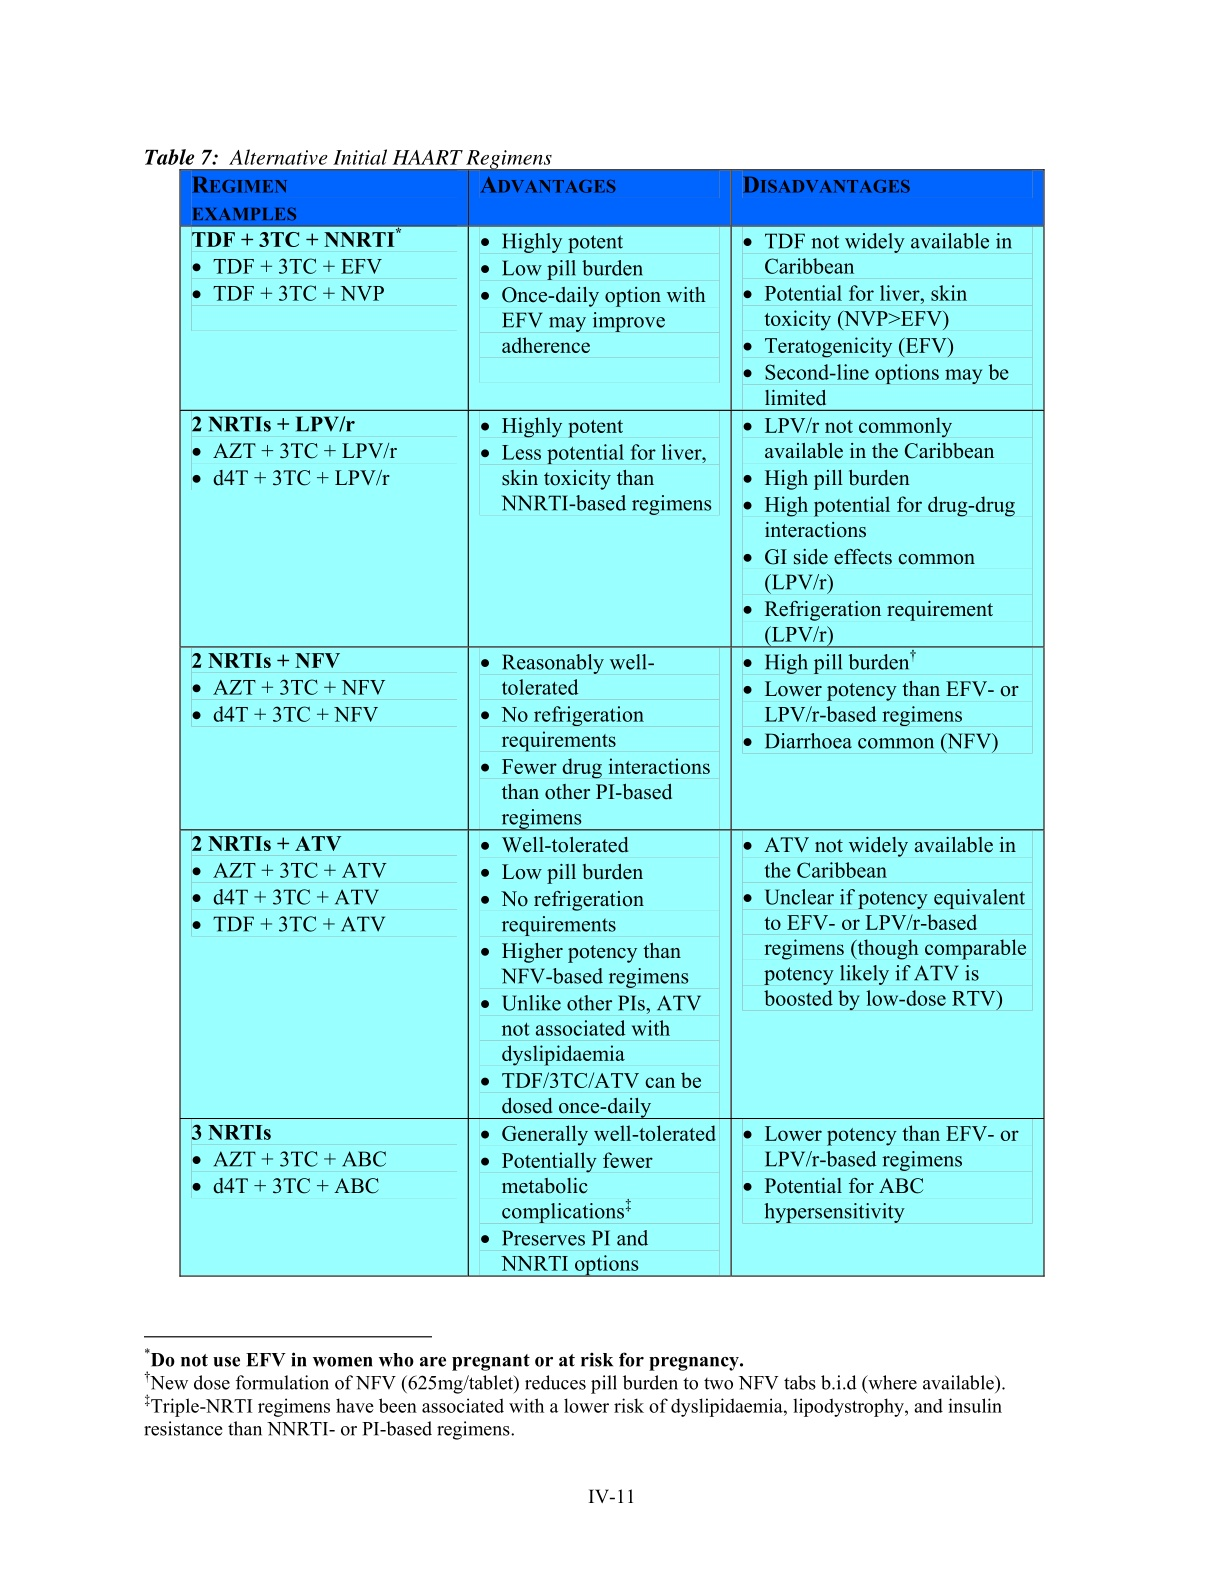full_lined: (179, 168, 1045, 1277)
